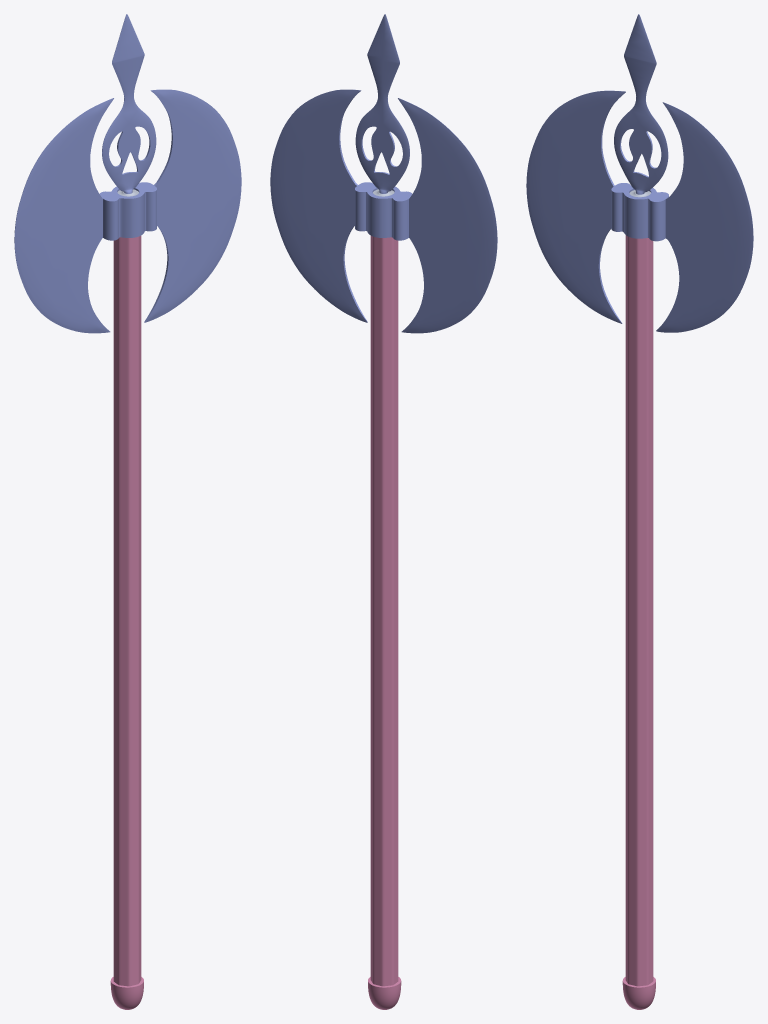
The picture shows the model from 3 angles, left to right: view 1: azimuth 30°, elevation 25°; view 2: azimuth 150°, elevation 25°; view 3: azimuth 330°, elevation 25°; orthographic projection.
Parts seen in each view (by area): view 1: split_parent_0, AXE_Final.001_handel_0; view 2: split_parent_0, AXE_Final.001_handel_0; view 3: split_parent_0, AXE_Final.001_handel_0.
Boxes of the visible parts, x1,y1,x2,y2 form: split_parent_0: [14, 14, 241, 333]; AXE_Final.001_handel_0: [110, 236, 143, 1009]; split_parent_0: [270, 14, 497, 333]; AXE_Final.001_handel_0: [368, 236, 401, 1009]; split_parent_0: [526, 14, 753, 332]; AXE_Final.001_handel_0: [622, 235, 655, 1009].
Size of the model in its own units: 0.2389 by 1 by 0.0309.
